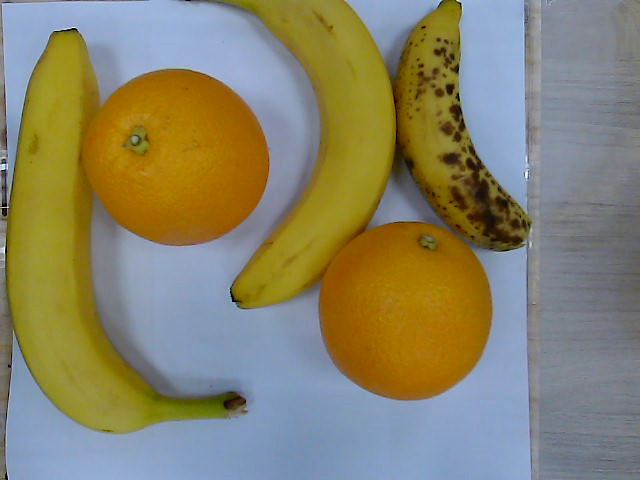fresh_banana: (8, 30, 162, 433), (229, 1, 398, 311)
fresh_orange: (79, 68, 273, 248), (316, 221, 496, 402)
rotten_banana: (396, 1, 534, 252)
